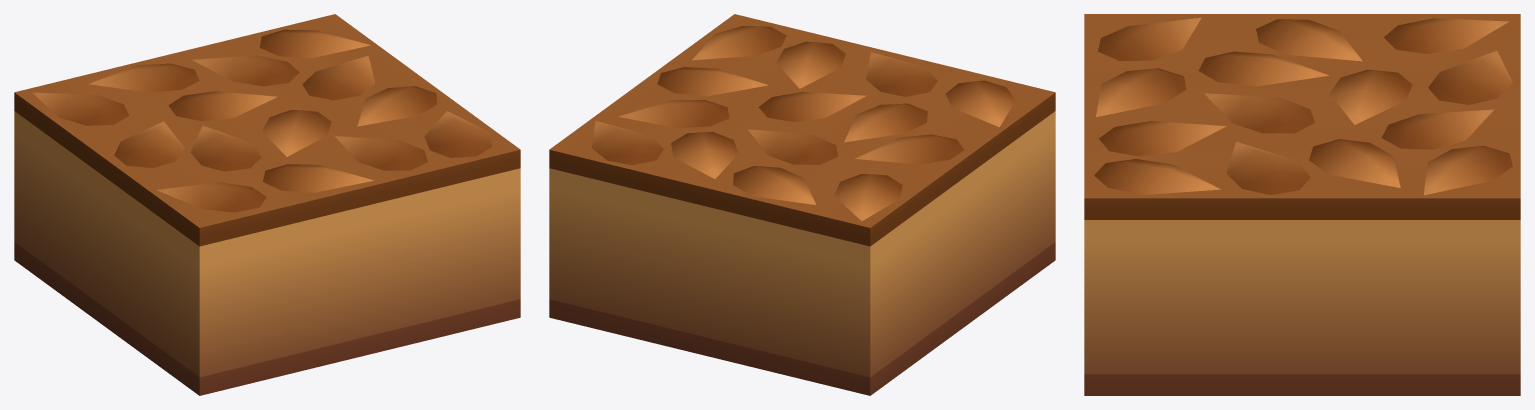
The model's file is m_Bienenstich01_Slice03.fbx.
3 views of the same model, side by side, from view 1: azimuth 30°, elevation 25°; view 2: azimuth 150°, elevation 25°; view 3: azimuth 270°, elevation 25° (orthographic). The views are drawn at different scales.
Parts seen in each view (by area): view 1: m_Bienenstich01_Slice03; view 2: m_Bienenstich01_Slice03; view 3: m_Bienenstich01_Slice03.
Part boxes in pixels (<box>): m_Bienenstich01_Slice03: <box>14,14,520,395</box>; m_Bienenstich01_Slice03: <box>549,14,1055,395</box>; m_Bienenstich01_Slice03: <box>1084,14,1520,395</box>.
Size of the model in its own units: 10 by 5.3 by 10.
